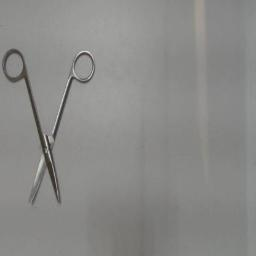Curved Mayo Scissors: (0, 44, 100, 208)
